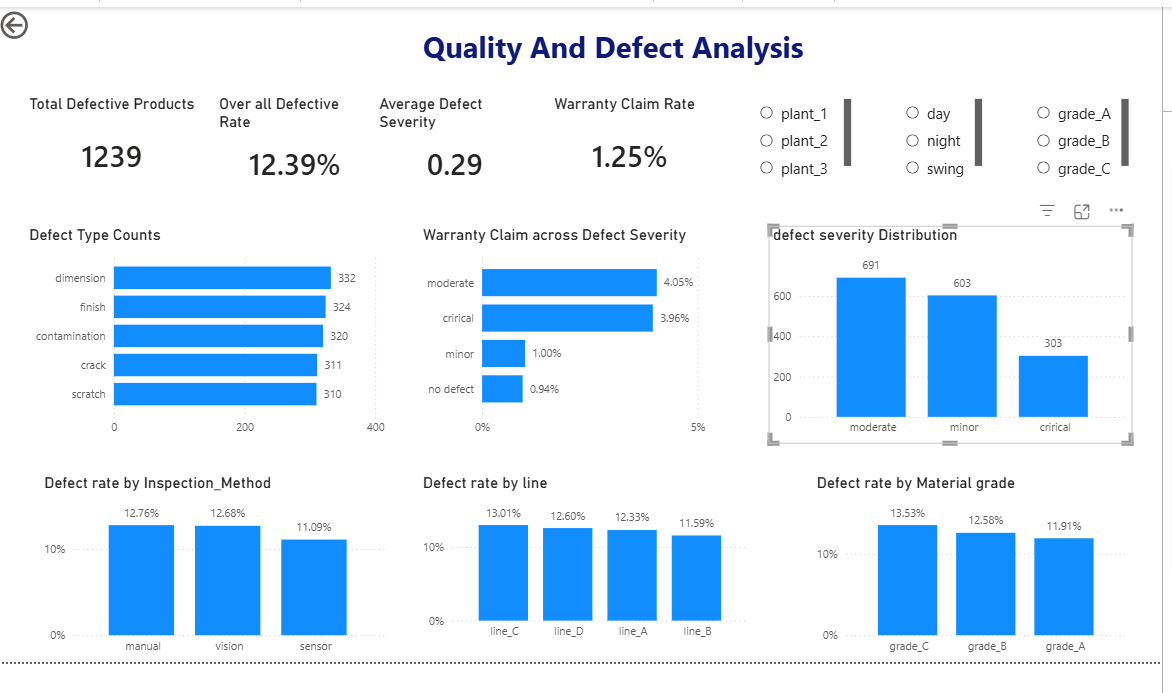

What the dashboard file says about the page in this screenshot:
{"tool":"powerbi","page":{"name":"Quality and defect Analysis","canvas":[1280,720],"ordinal":1},"visuals":[{"type":"cardVisual","title":"Total Defective Products","fields":{"Data":["manufacturing_quality_decisions_10000.failed products"]},"box":[31.6,96.1,192.1,112.5],"z":0},{"type":"cardVisual","title":"Over all Defective Rate","fields":{"Data":["manufacturing_quality_decisions_10000.defect_rate"]},"box":[240,96,176,112],"z":1000},{"type":"textbox","box":[464,16,464,64],"z":2000},{"type":"cardVisual","title":"Average Defect Severity","fields":{"Data":["manufacturing_quality_decisions_10000.Average Defective Severity"]},"box":[416,96,176,112],"z":3000},{"type":"cardVisual","title":"Warranty Claim Rate","fields":{"Data":["manufacturing_quality_decisions_10000.Warranty Claim Rate"]},"box":[607.9,96.1,175.6,112.5],"z":4000},{"type":"clusteredBarChart","title":"Defect Type Counts","fields":{"Category":["manufacturing_quality_decisions_10000.defect_type"],"Y":["CountNonNull(manufacturing_quality_decisions_10000.defect_type)"]},"box":[32,240,400,240],"z":5000},{"type":"clusteredBarChart","title":" Warranty Claim across Defect Severity","fields":{"Y":["manufacturing_quality_decisions_10000.Warranty Claim Rate"],"Category":["manufacturing_quality_decisions_10000.Severity"]},"box":[464,240,368,240],"z":6000},{"type":"clusteredColumnChart","title":"Defect rate by Material grade","fields":{"Y":["manufacturing_quality_decisions_10000.defect_rate"],"Category":["manufacturing_quality_decisions_10000.material_grade"]},"box":[896,512,352,208],"z":7000},{"type":"clusteredColumnChart","title":"Defect rate by Inspection_Method","fields":{"Category":["manufacturing_quality_decisions_10000.inspection_method"],"Y":["manufacturing_quality_decisions_10000.defect_rate"]},"box":[48,512,384,208],"z":8000},{"type":"clusteredColumnChart","title":"Defect rate by line","fields":{"Category":["manufacturing_quality_decisions_10000.line"],"Y":["manufacturing_quality_decisions_10000.defect_rate"]},"box":[464,512,368,192],"z":9000},{"type":"clusteredColumnChart","title":"defect severity Distribution (0 to 3)","fields":{"Category":["manufacturing_quality_decisions_10000.Severity"],"Y":["manufacturing_quality_decisions_10000.total_production"]},"box":[848,240,400,240],"z":10000},{"type":"actionButton","box":[0,0,100,40],"z":11000},{"type":"listSlicer","fields":{"Values":["manufacturing_quality_decisions_10000.plant"]},"box":[832,96,112,96],"z":12000},{"type":"listSlicer","fields":{"Values":["manufacturing_quality_decisions_10000.shift"]},"box":[992,96,96,96],"z":13000},{"type":"listSlicer","fields":{"Values":["manufacturing_quality_decisions_10000.material_grade"]},"box":[1136,96,112,96],"z":14000}]}

Visuals, with their boxes on the page's 1280x720 design canvas (x1, y1, x2, y2). These are canvas units, not pixel positions in the 1172x693 screenshot, which may show the page scaled, cropped or inside an application window:
"Total Defective Products" cardVisual: <bbox>32, 96, 224, 209</bbox>
"Over all Defective Rate" cardVisual: <bbox>240, 96, 416, 208</bbox>
textbox: <bbox>464, 16, 928, 80</bbox>
"Average Defect Severity" cardVisual: <bbox>416, 96, 592, 208</bbox>
"Warranty Claim Rate" cardVisual: <bbox>608, 96, 784, 209</bbox>
"Defect Type Counts" clusteredBarChart: <bbox>32, 240, 432, 480</bbox>
" Warranty Claim across Defect Severity" clusteredBarChart: <bbox>464, 240, 832, 480</bbox>
"Defect rate by Material grade" clusteredColumnChart: <bbox>896, 512, 1248, 720</bbox>
"Defect rate by Inspection_Method" clusteredColumnChart: <bbox>48, 512, 432, 720</bbox>
"Defect rate by line" clusteredColumnChart: <bbox>464, 512, 832, 704</bbox>
"defect severity Distribution (0 to 3)" clusteredColumnChart: <bbox>848, 240, 1248, 480</bbox>
actionButton: <bbox>0, 0, 100, 40</bbox>
listSlicer - manufacturing_quality_decisions_10000.plant: <bbox>832, 96, 944, 192</bbox>
listSlicer - manufacturing_quality_decisions_10000.shift: <bbox>992, 96, 1088, 192</bbox>
listSlicer - manufacturing_quality_decisions_10000.material_grade: <bbox>1136, 96, 1248, 192</bbox>
